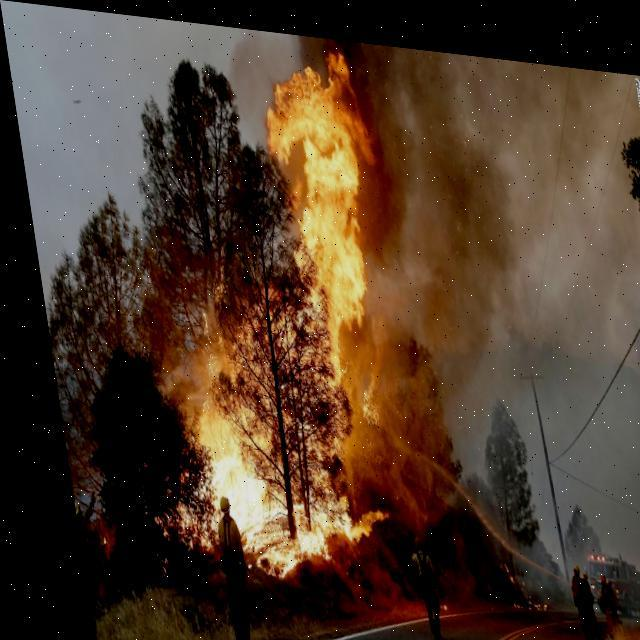Fire: (115, 20, 417, 583)
